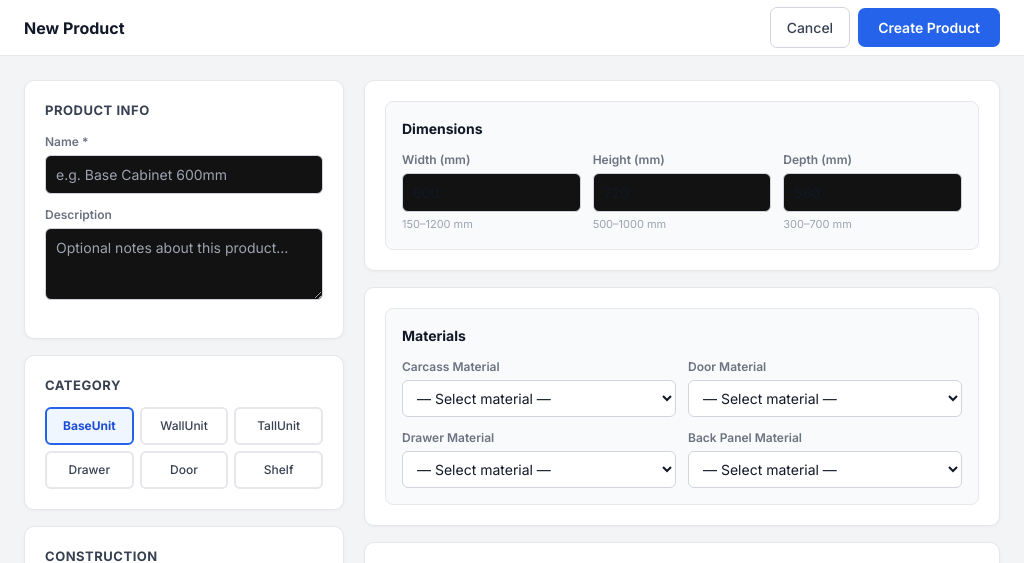
ProductEditor — form interactions › shows validation error when saving with empty name
Click the button with test id "btn-save" at x=929, y=28, box [858,8,1000,47]
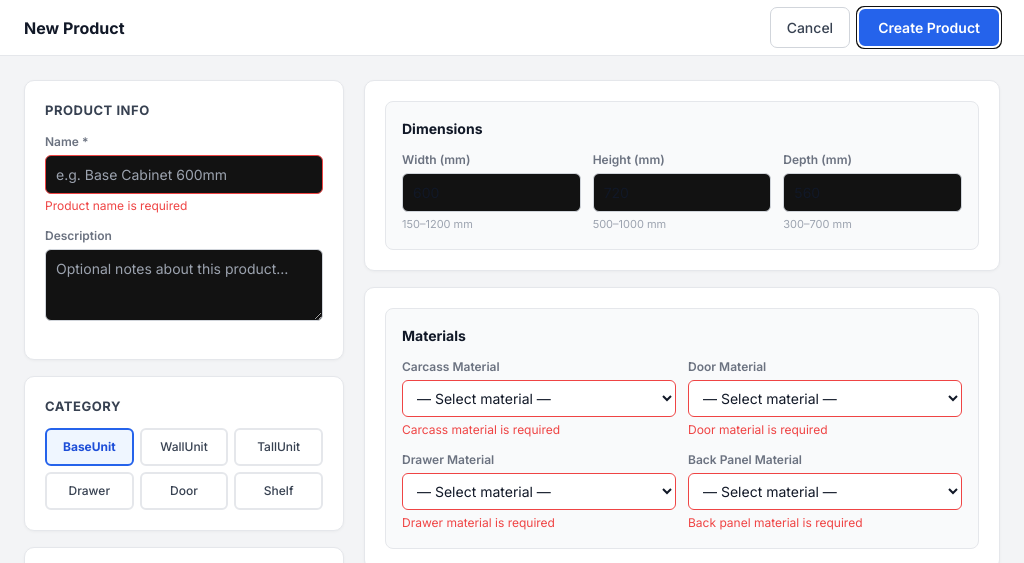
expect the message "Product name is required" is shown: met, box [45,198,187,212]
